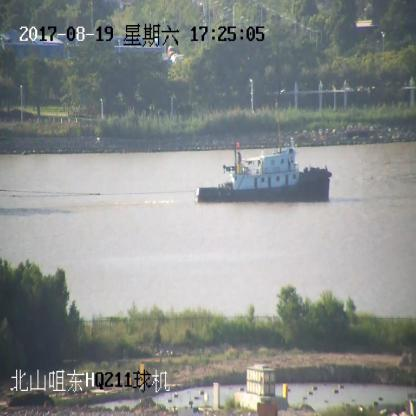Fishing Boat: (196, 136, 332, 202)
